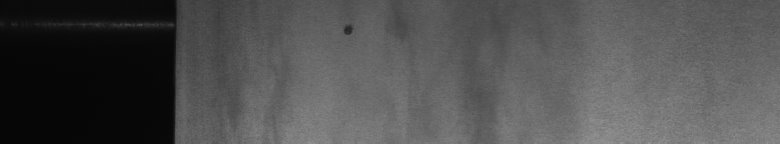fi: (336, 20, 356, 42)
